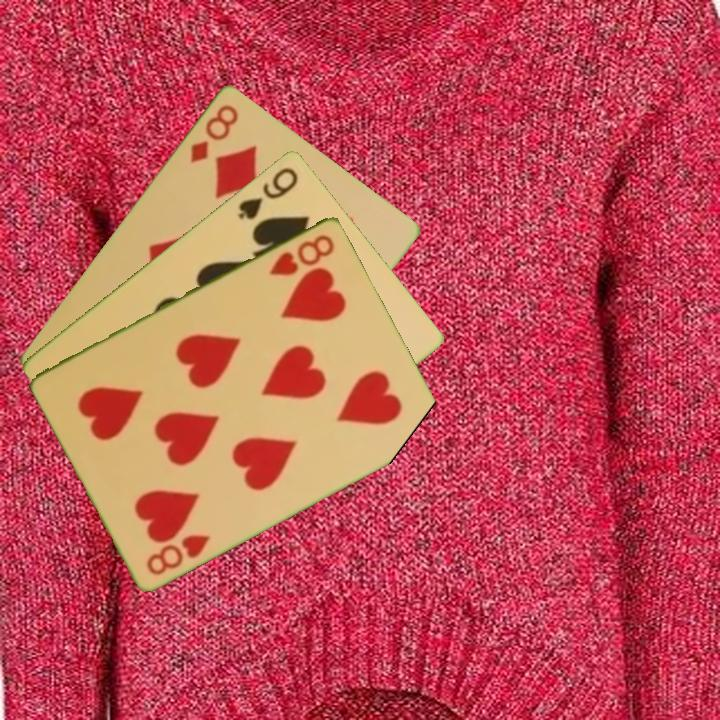8d: (186, 100, 242, 165)
8h: (265, 230, 338, 279), (143, 530, 214, 578)
9s: (234, 163, 301, 222)
